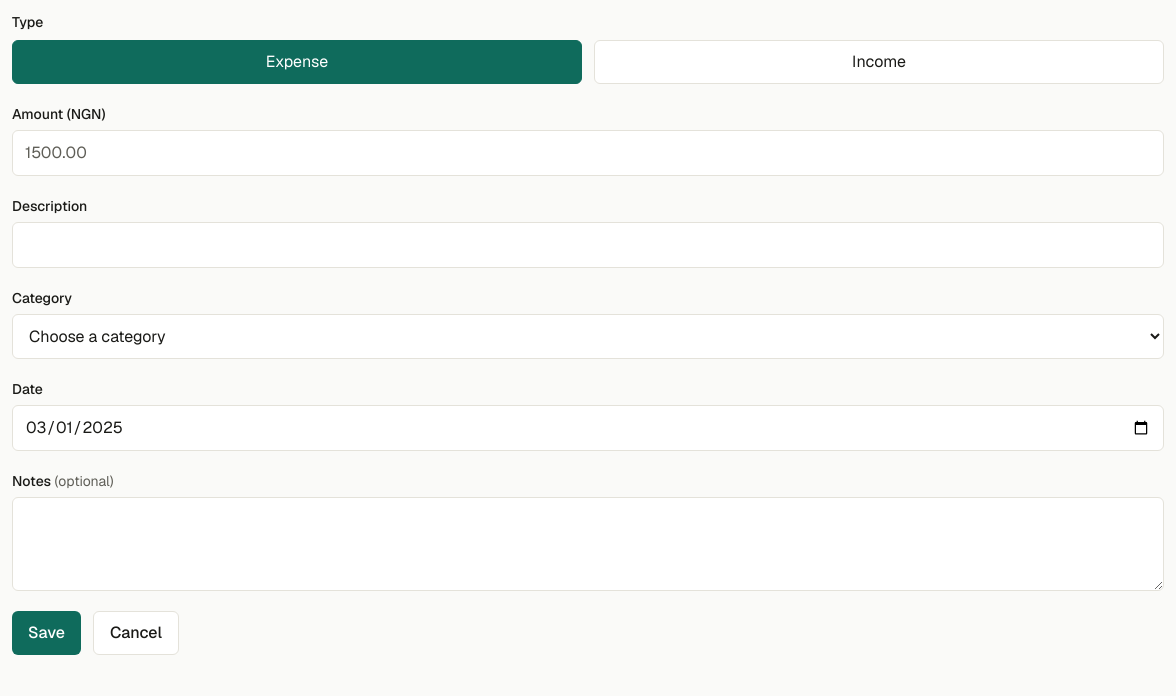
Test: TransactionForm › shows server validation errors next to their fields, announced and linked
Click the button "Save".
click(46, 633)  # box [12, 611, 81, 655]
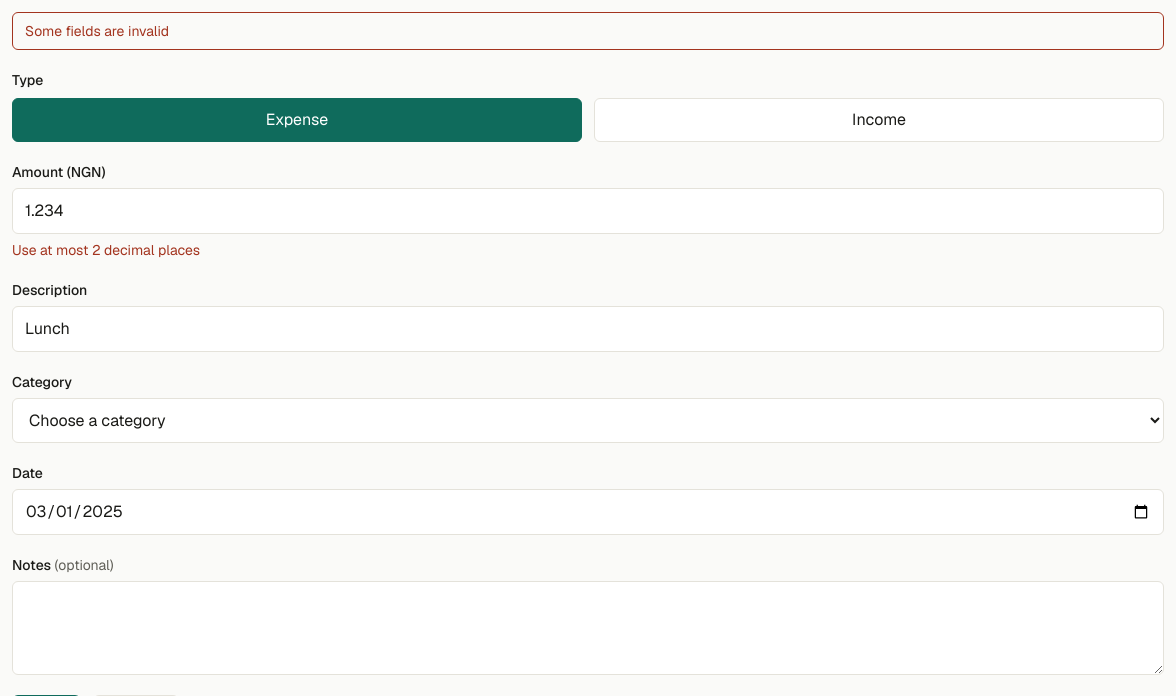
Check: the message reads "Some fields are invalid", box [25, 22, 169, 40]
Check: the field labelled "Amount (NGN)" holds "1.234", box [12, 188, 1164, 234]
Check: the field labelled "Description" holds "Lunch", box [12, 306, 1164, 352]
